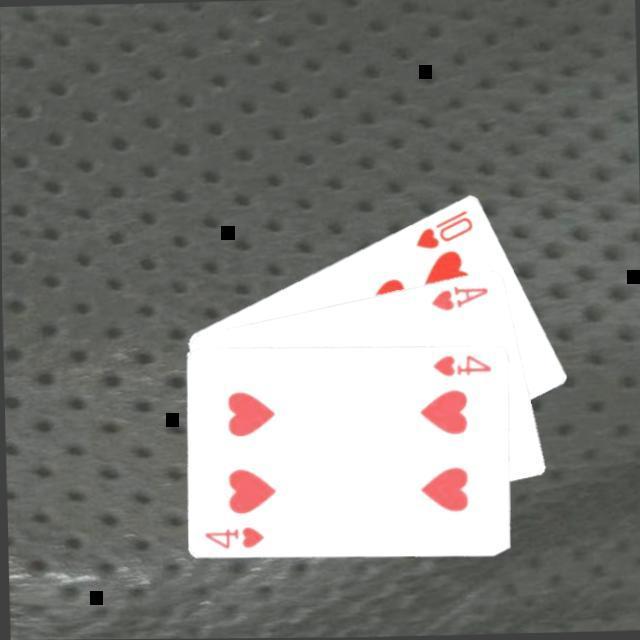10H: (410, 207, 475, 252)
4H: (200, 523, 265, 552), (428, 351, 492, 380)
AH: (426, 283, 491, 314)
